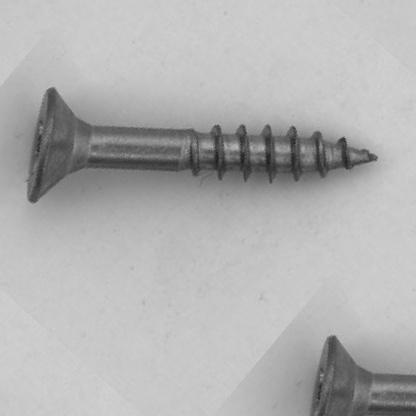metal: (25, 85, 379, 205)
